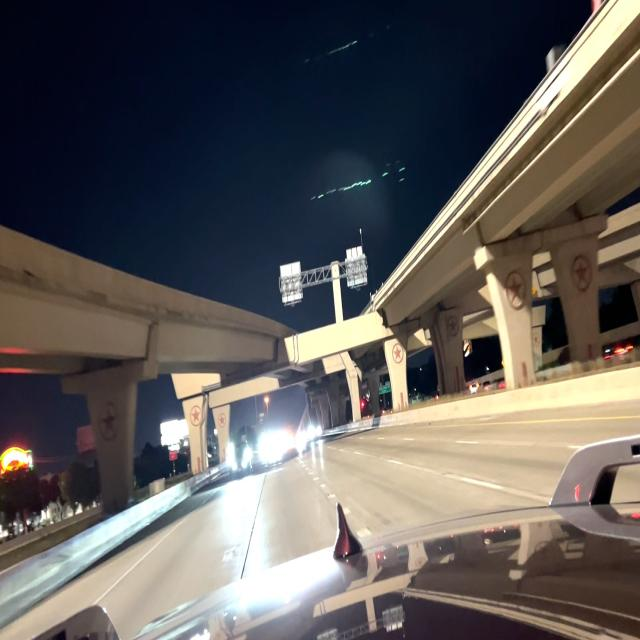back-of-sign: (345, 243, 369, 290), (279, 263, 304, 305)
